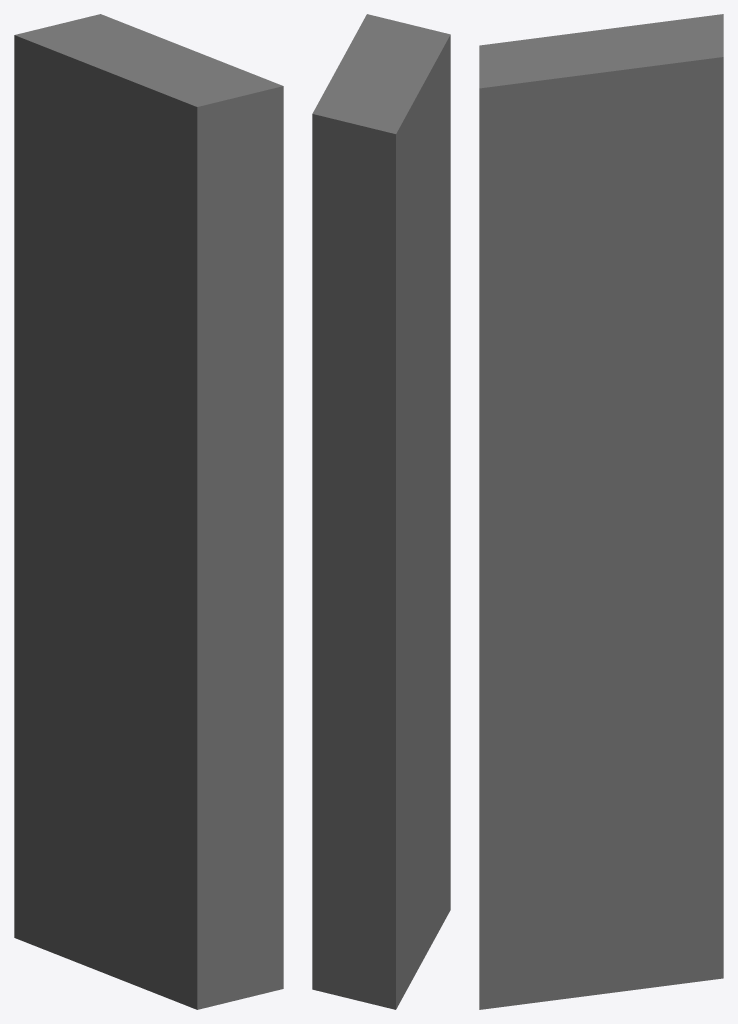
File: MS_Hull_Side_Dynamic_Preview.fbx
The picture shows the model from 3 angles, left to right: view 1: azimuth 30°, elevation 25°; view 2: azimuth 150°, elevation 25°; view 3: azimuth 270°, elevation 25°; orthographic projection. The views are drawn at different scales.
Visible parts, largest first — view 1: MS_Hull_Side_Dynamic_Preview; view 2: MS_Hull_Side_Dynamic_Preview; view 3: MS_Hull_Side_Dynamic_Preview.
Part boxes in pixels (<box>): MS_Hull_Side_Dynamic_Preview: <box>14,14,283,1009</box>; MS_Hull_Side_Dynamic_Preview: <box>312,14,450,1009</box>; MS_Hull_Side_Dynamic_Preview: <box>479,14,723,1009</box>.
Size of the model in its own units: 34.68 by 48 by 200.
